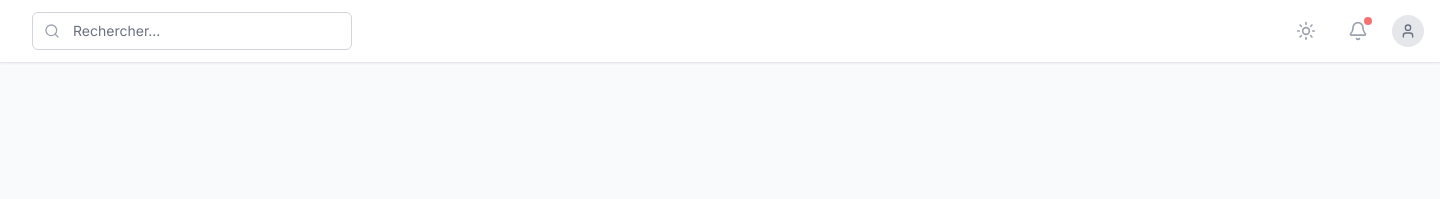
Scenario: Header › Theme Switcher › closes theme dropdown when theme is selected
Click the 1st button at (1306, 31), box [1288,13,1324,49]
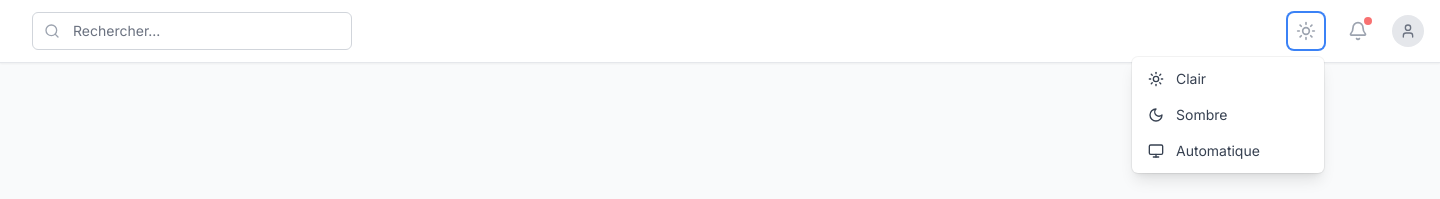
Click the button "Clair" at (1228, 79), box [1132,61,1324,97]
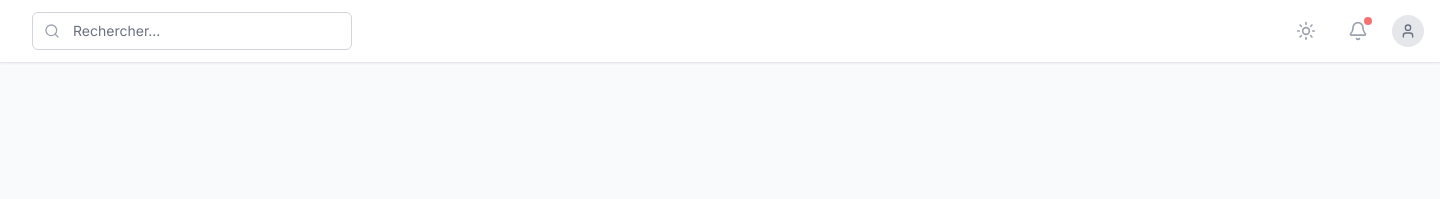
Expected: the button "Clair" is gone
Expected: the button "Sombre" is gone
Expected: the button "Automatique" is gone
